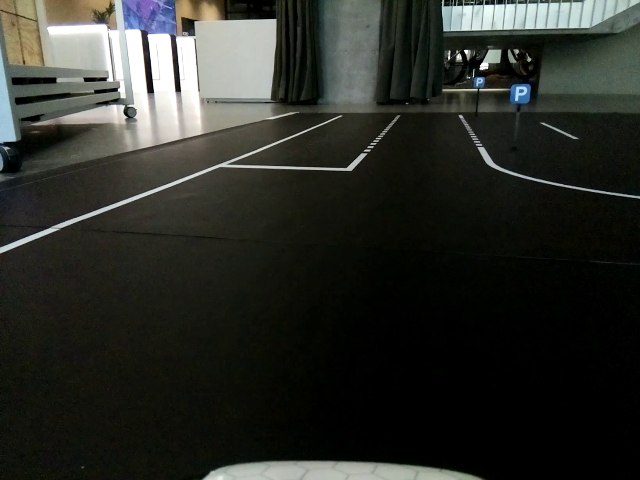park: (511, 84, 530, 105), (474, 76, 484, 87)
